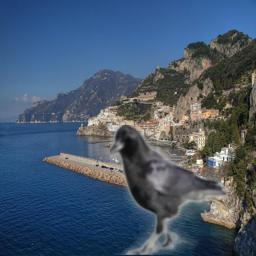Crow: (110, 125, 227, 255)
